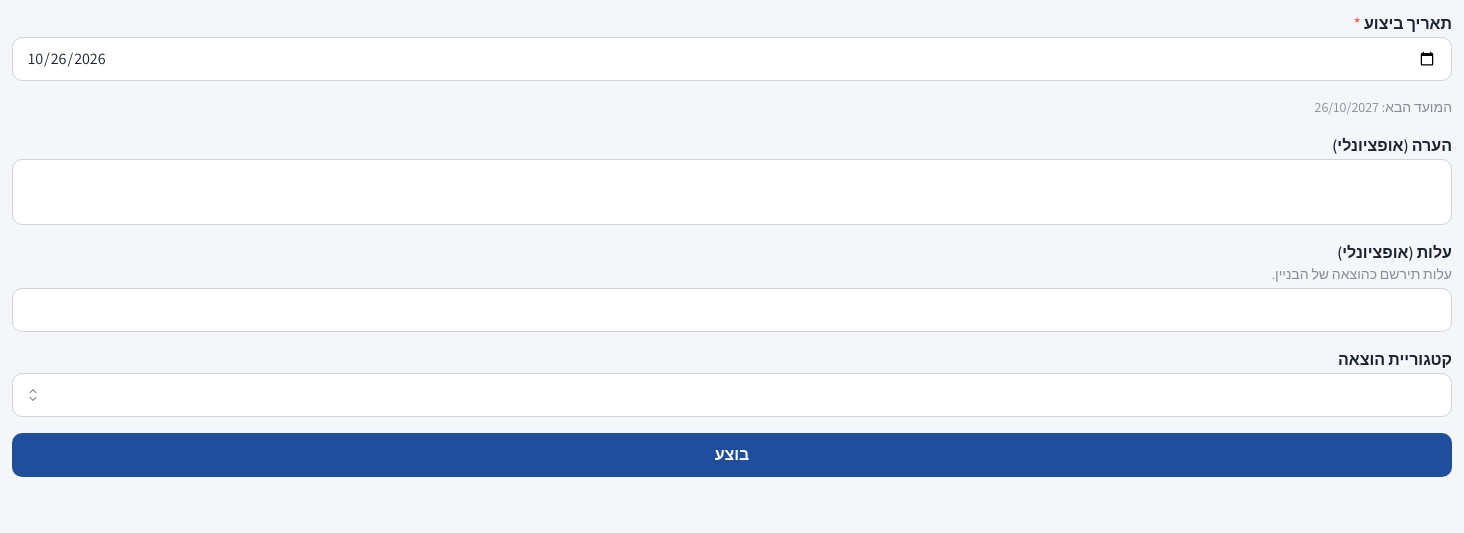
Test: DoneForm › requires a category when a cost is entered
The width and height of the screenshot is (1464, 533).
Step 1. Type "80" into the field labelled "עלות (אופציונלי)" → [732, 310], box [12,288,1452,332]
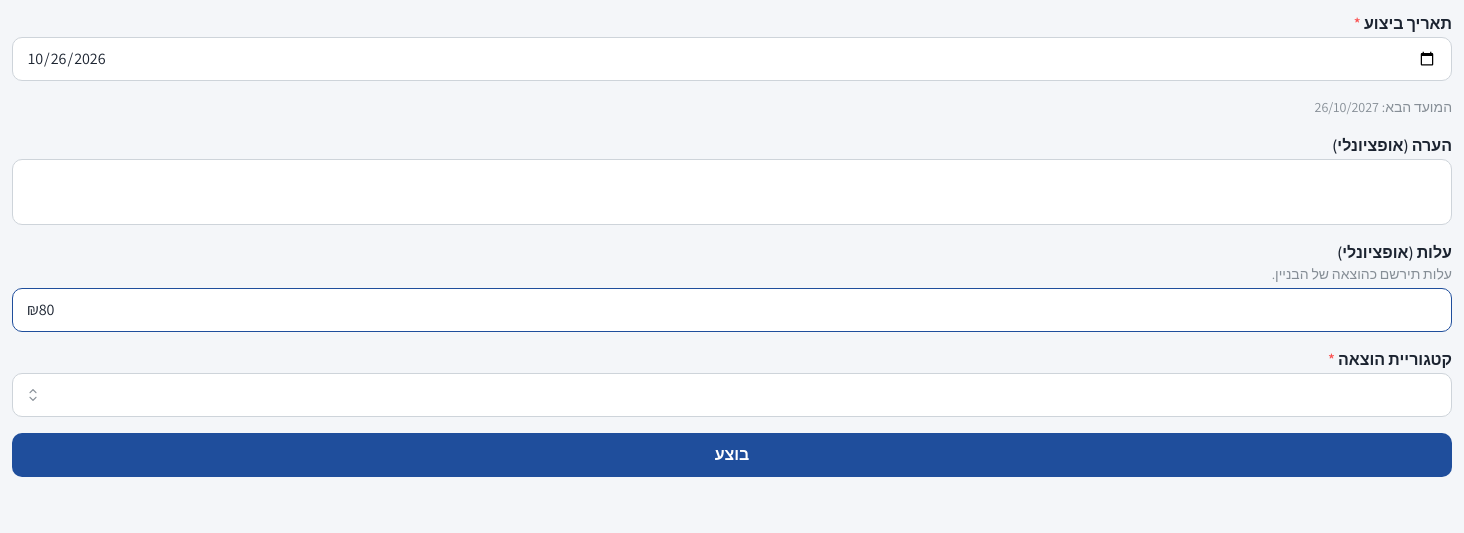
Step 2. Click the button "בוצע" → [732, 455], box [12,433,1452,477]
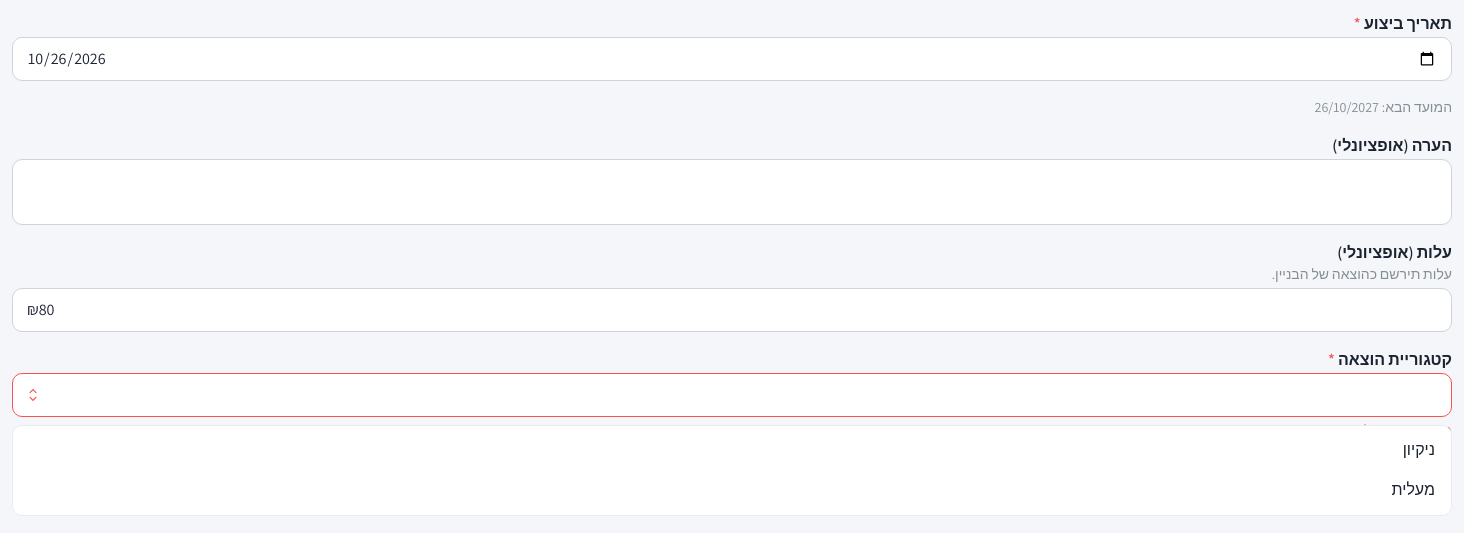
Check: the text "בחרו קטגוריה להוצאה" is shown, box [1326,421,1452,439]
